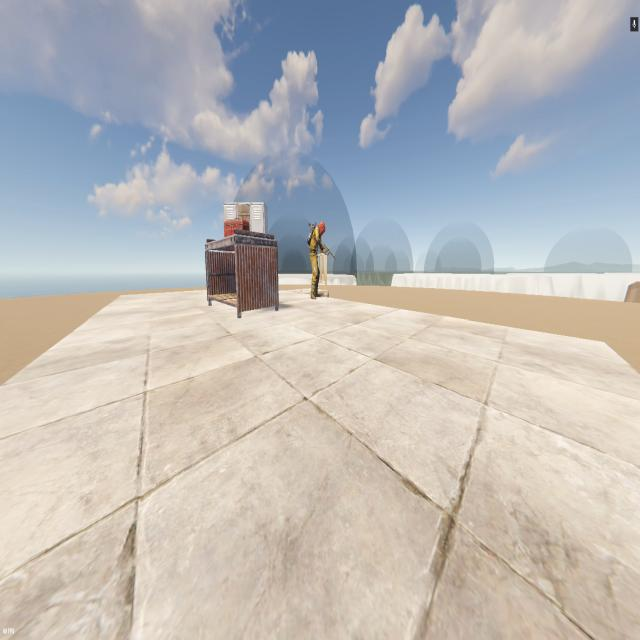Player: (308, 217, 326, 300)
